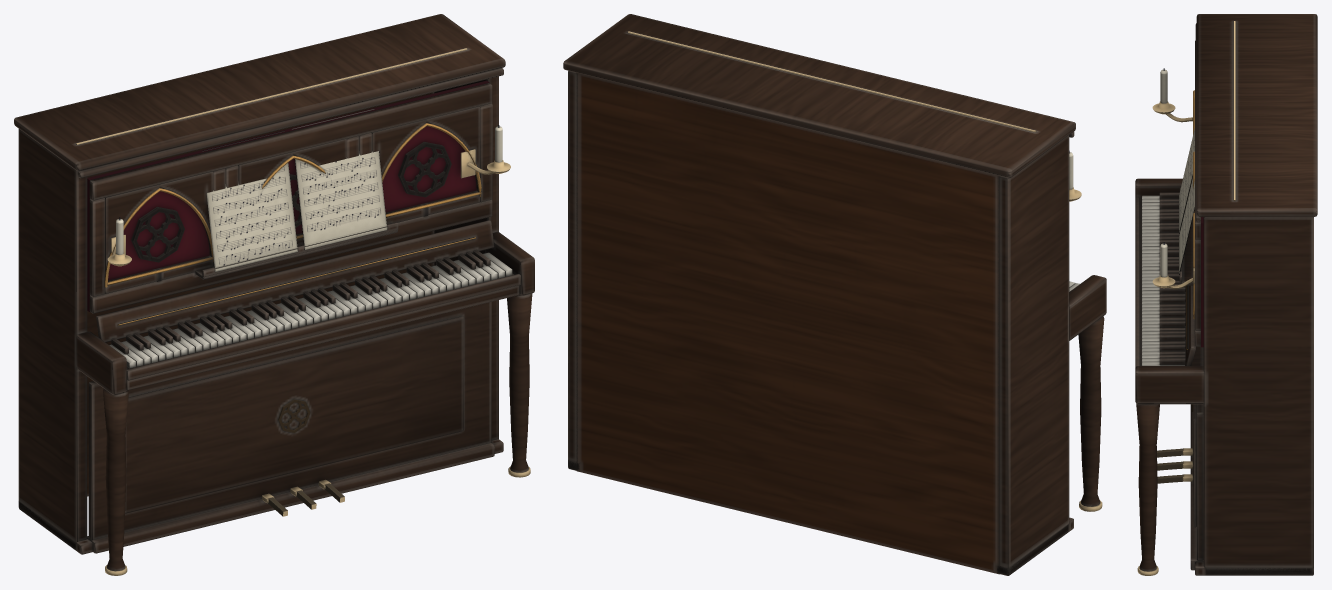
Rendered from UprightPiano.fbx.
3 views of the same model, side by side, from view 1: azimuth 30°, elevation 25°; view 2: azimuth 150°, elevation 25°; view 3: azimuth 270°, elevation 25° (orthographic). The views are drawn at different scales.
Visible parts, largest first — view 1: UprightPiano; view 2: UprightPiano; view 3: UprightPiano.
Part boxes in pixels (x1,y1,x2,y2): UprightPiano: (14,14,534,575); UprightPiano: (563,14,1106,575); UprightPiano: (1135,14,1317,575).
Size of the model in its own units: 528 by 461 by 207.
